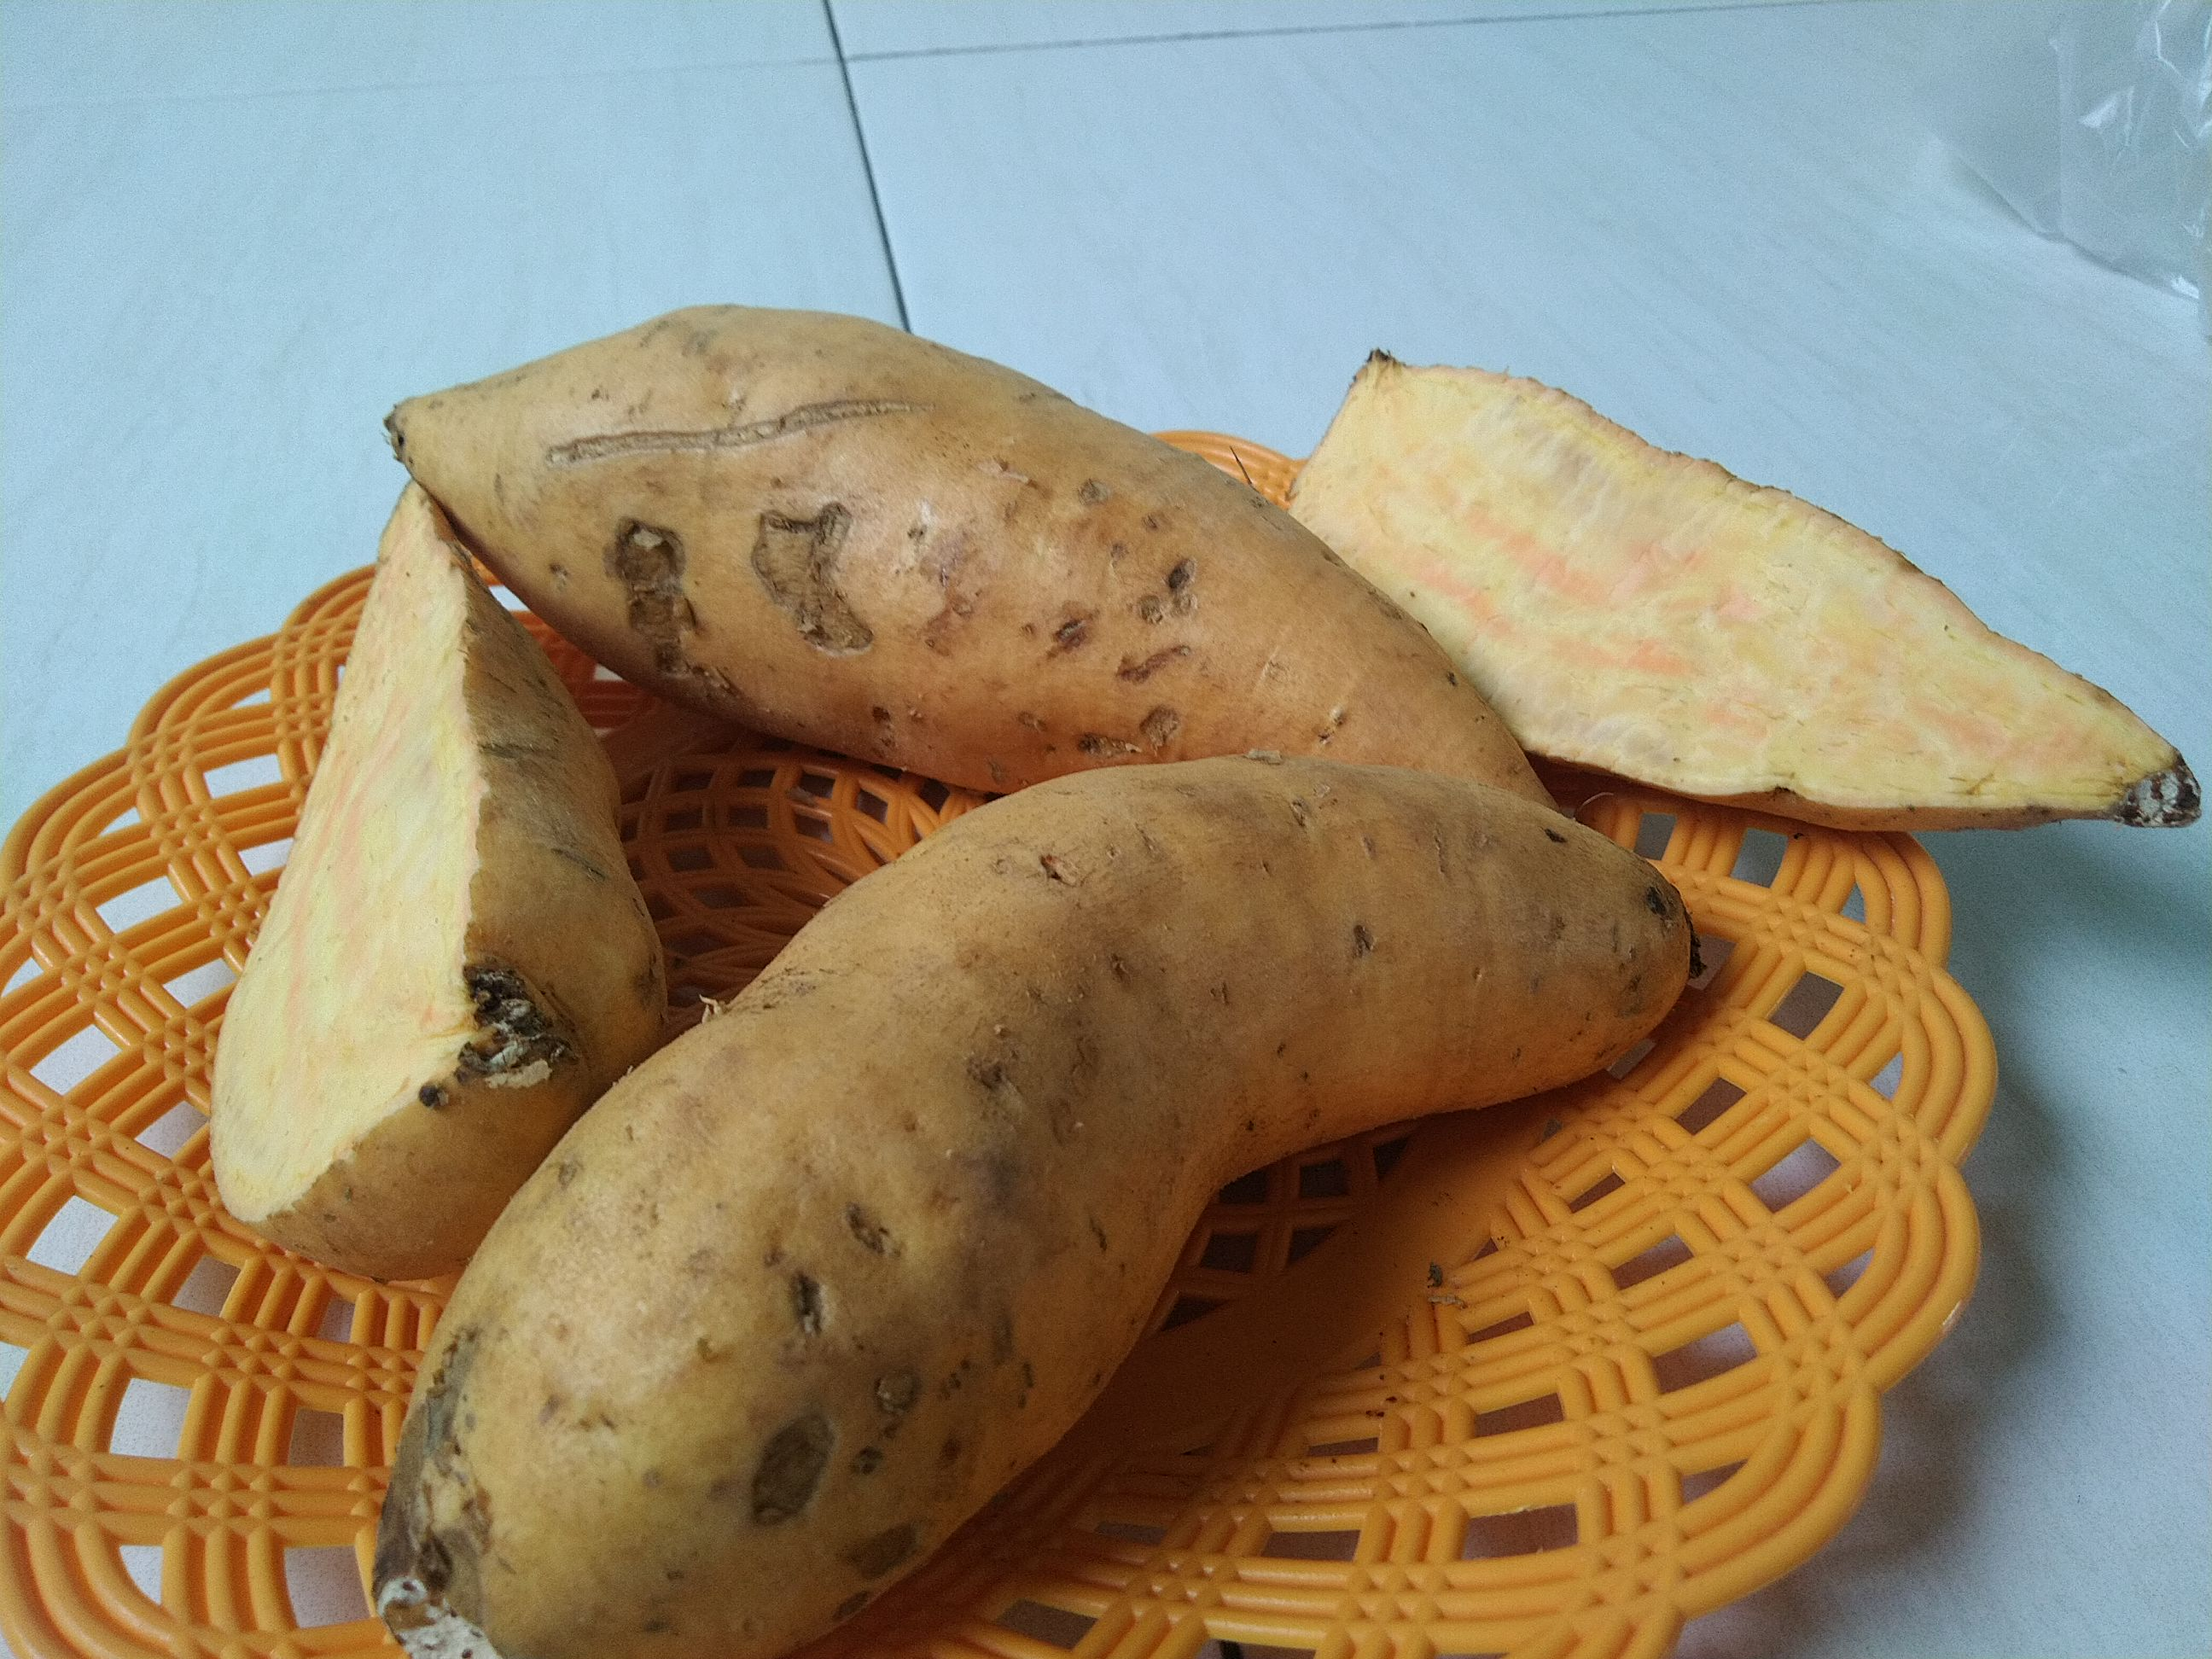ubi cilembu: (362, 744, 1815, 1656), (394, 288, 1604, 863), (1313, 336, 2205, 901), (225, 483, 646, 1227)
